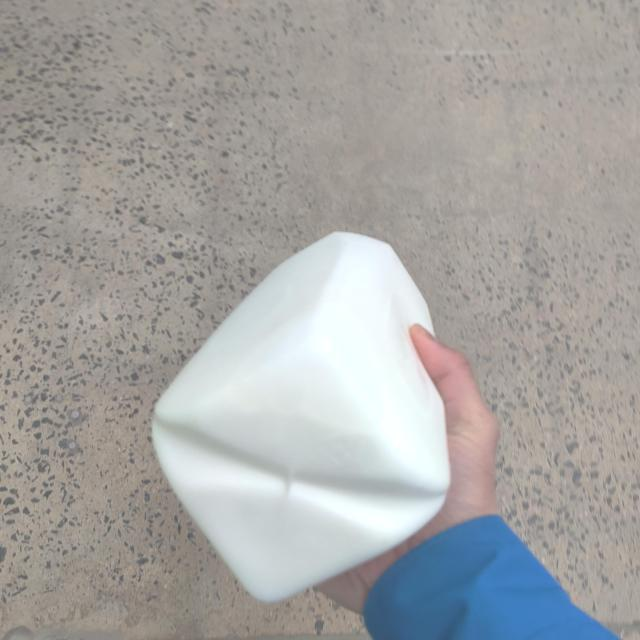milk: (144, 223, 458, 598)
